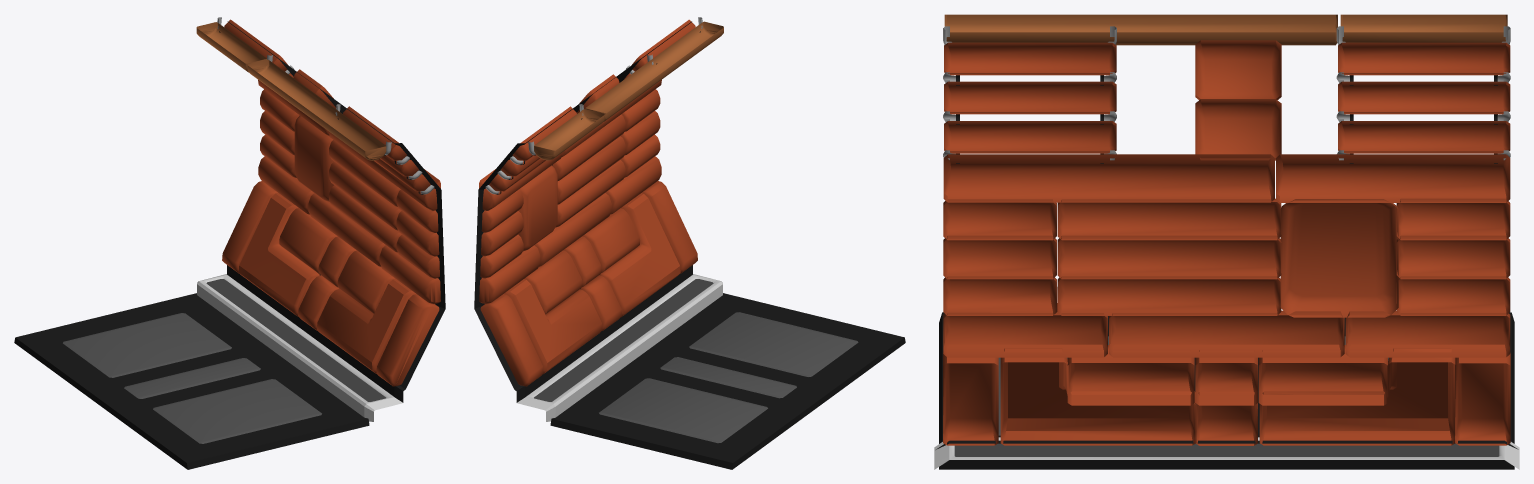
The model's file is corridor_bit.obj.
3 renders of one model, left to right at view 1: azimuth 30°, elevation 25°; view 2: azimuth 150°, elevation 25°; view 3: azimuth 270°, elevation 25°, orthographic. The views are drawn at different scales.
Visible parts, largest first — view 1: entry_1275_pkOBJ, entry_2523_pkOBJ, entry_2522_pkOBJ, entry_1270_pkOBJ, entry_1272_pkOBJ, entry_1271_pkOBJ, entry_1273_pkOBJ; view 2: entry_1275_pkOBJ, entry_2523_pkOBJ, entry_2522_pkOBJ, entry_1270_pkOBJ, entry_1272_pkOBJ, entry_1271_pkOBJ, entry_1273_pkOBJ; view 3: entry_1275_pkOBJ, entry_1270_pkOBJ, entry_2523_pkOBJ, entry_1273_pkOBJ, entry_1271_pkOBJ, entry_1272_pkOBJ, entry_1274_pkOBJ.
Boxes of the visible parts, x1,y1,x2,y2 form: entry_1275_pkOBJ: (222, 19, 440, 386); entry_2523_pkOBJ: (14, 293, 369, 469); entry_2522_pkOBJ: (63, 313, 321, 443); entry_1270_pkOBJ: (196, 22, 386, 160); entry_1272_pkOBJ: (197, 274, 402, 421); entry_1271_pkOBJ: (219, 21, 445, 402); entry_1273_pkOBJ: (206, 279, 385, 401); entry_1275_pkOBJ: (479, 19, 697, 386); entry_2523_pkOBJ: (550, 293, 905, 469); entry_2522_pkOBJ: (599, 312, 858, 443); entry_1270_pkOBJ: (534, 21, 723, 160); entry_1272_pkOBJ: (517, 274, 722, 421); entry_1271_pkOBJ: (474, 21, 700, 402); entry_1273_pkOBJ: (534, 279, 713, 401); entry_1275_pkOBJ: (943, 40, 1510, 445); entry_1270_pkOBJ: (944, 14, 1507, 45); entry_2523_pkOBJ: (939, 312, 1514, 469); entry_1273_pkOBJ: (954, 443, 1499, 456); entry_1271_pkOBJ: (936, 75, 1518, 449); entry_1272_pkOBJ: (934, 437, 1519, 469); entry_1274_pkOBJ: (943, 26, 1510, 160).
Size of the model in its own units: 34.5 by 35.62 by 41.12.
